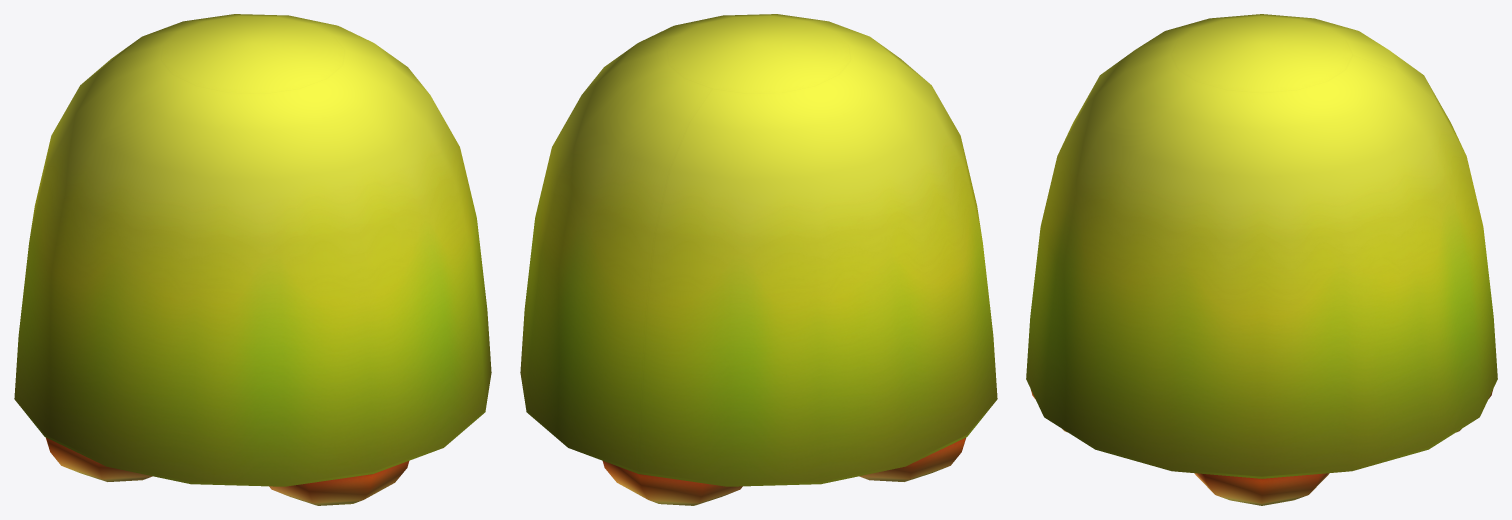
3 renders of one model, left to right at view 1: azimuth 30°, elevation 25°; view 2: azimuth 150°, elevation 25°; view 3: azimuth 270°, elevation 25°, orthographic. The views are drawn at different scales.
Visible parts, largest first — view 1: S030; view 2: S030; view 3: S030.
Boxes of the visible parts, x1=… form: S030: x1=14, y1=14, x2=491, y2=505; S030: x1=520, y1=14, x2=997, y2=505; S030: x1=1026, y1=14, x2=1497, y2=505.
Bounding box in the file's own units: 23.99 × 21.66 × 23.99.
Materials: 1 (1 with a texture image).
